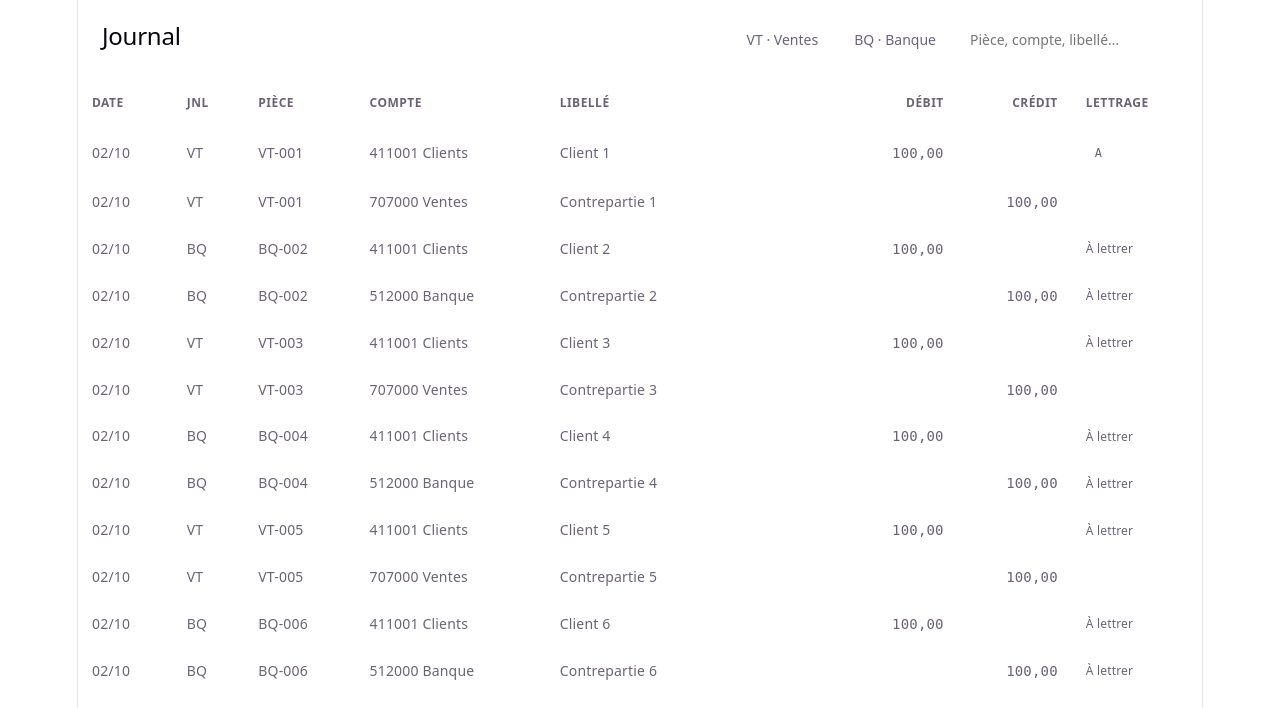
JournalTable › recherche dans la pièce, le compte et le libellé
Type "banque" into the search field with class "journal-search".
click(1068, 40); type("banque")  # box [958,20,1178,60]
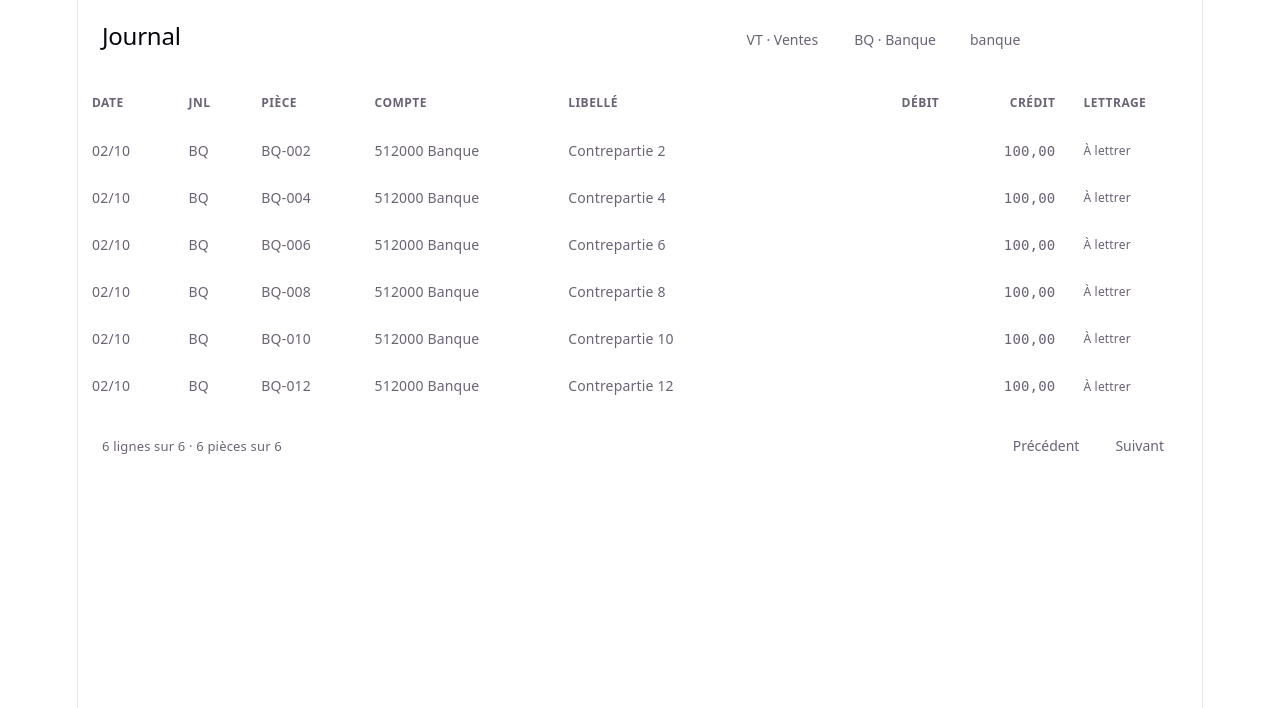
Expected: the text with class "journal-summary" reads "6 lignes sur 6 · 6 pièces sur 6", [102,437,282,455]
Replace the text in the search field with class "journal-search" with "introuvable" at (1068, 40), box [958,20,1178,60]
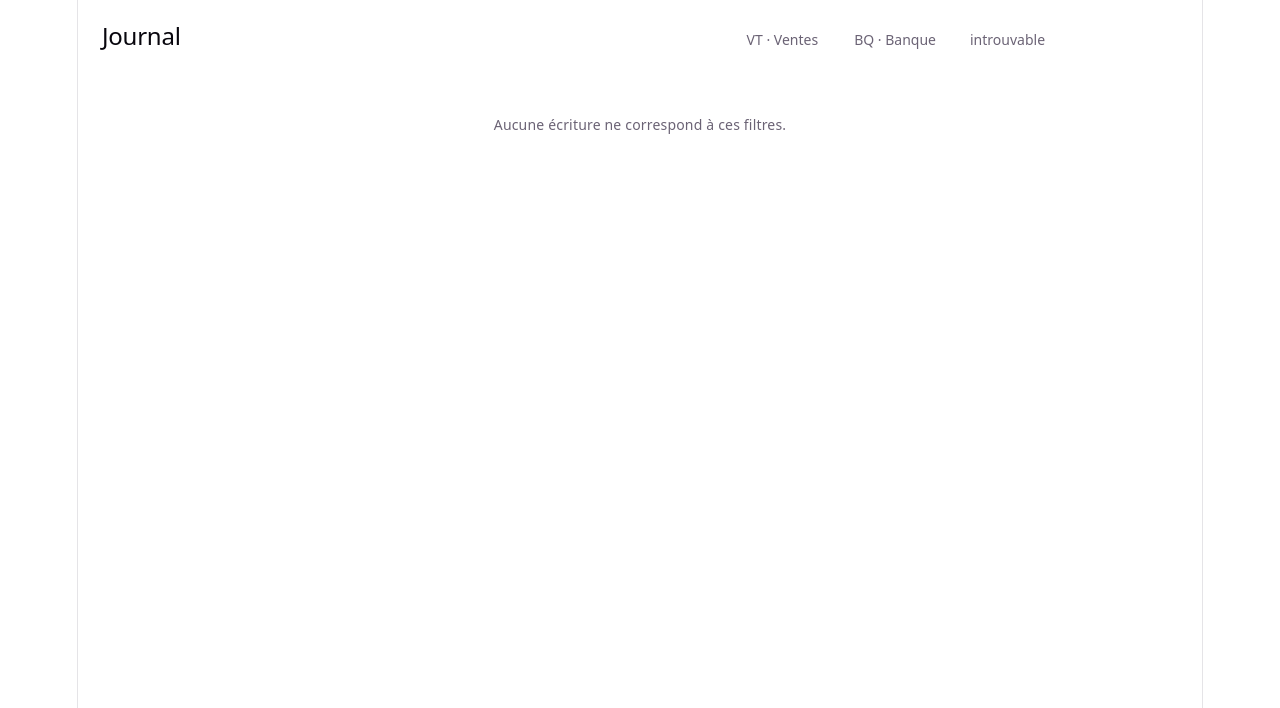
Expected: the text "Aucune écriture ne correspond à ces filtres." is shown, [494,115,786,134]
